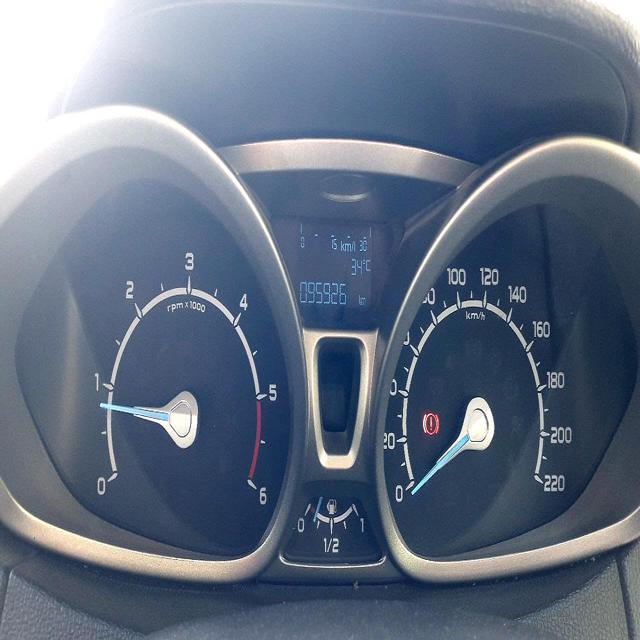odometer: (297, 278, 348, 312)
